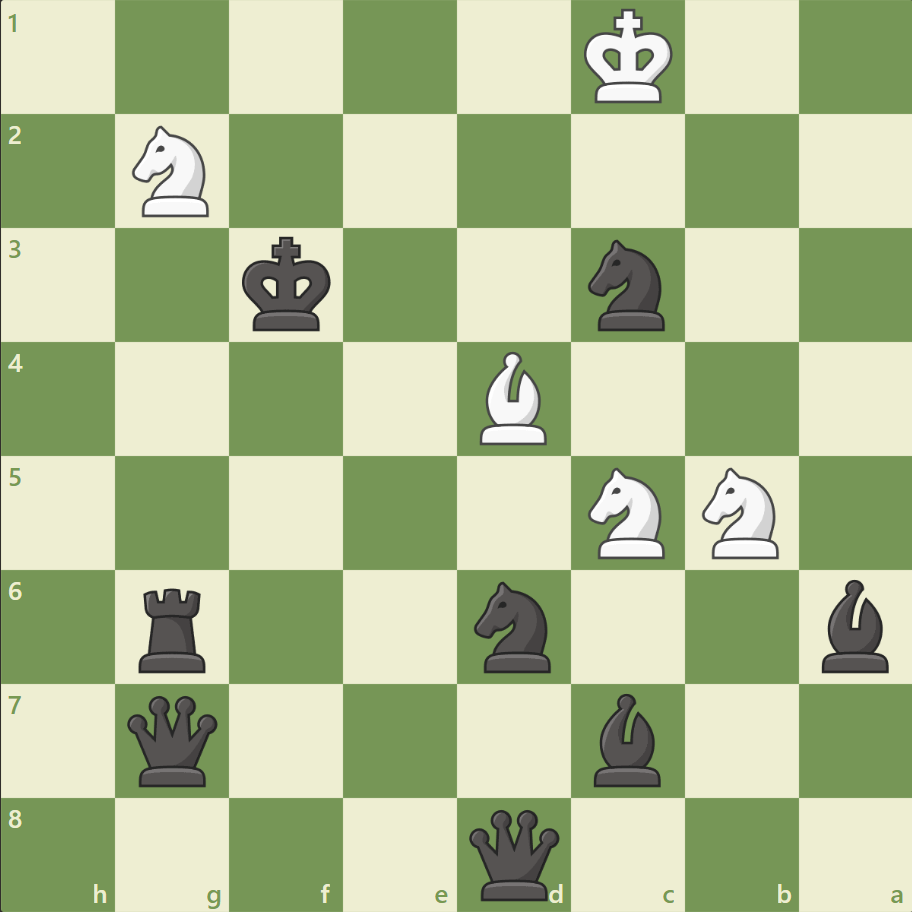B: (471, 347, 555, 449)
K: (579, 4, 679, 112)
N: (124, 121, 222, 223), (692, 461, 789, 564), (579, 461, 676, 564)
b: (585, 687, 669, 790), (812, 574, 896, 676)
k: (238, 231, 338, 339)
n: (579, 234, 676, 337), (465, 575, 562, 677)
q: (464, 804, 563, 903), (124, 690, 223, 789)
r: (133, 579, 215, 676)
